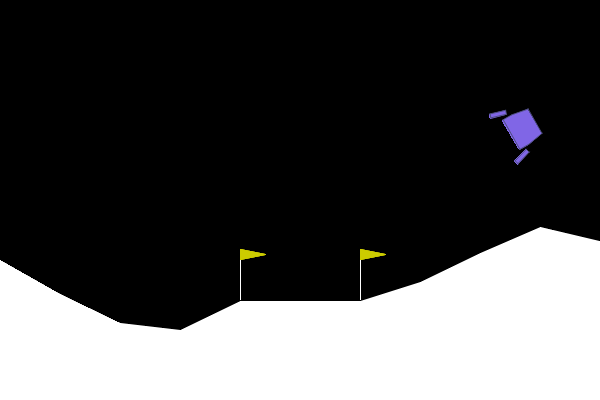lander: (487, 94, 551, 166)
